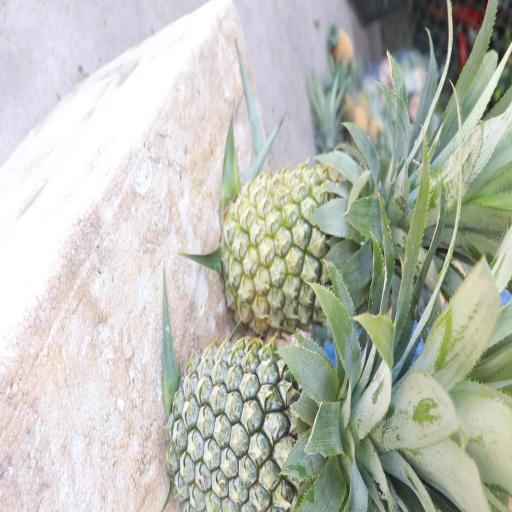Pineapple - v8 v1: (222, 163, 400, 326)
